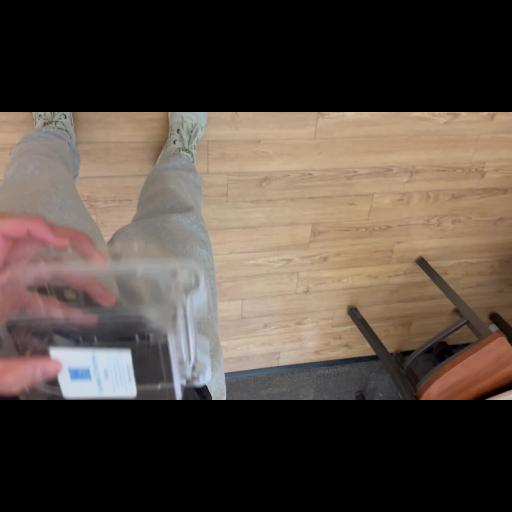small_plastic_container: (0, 242, 212, 400)
